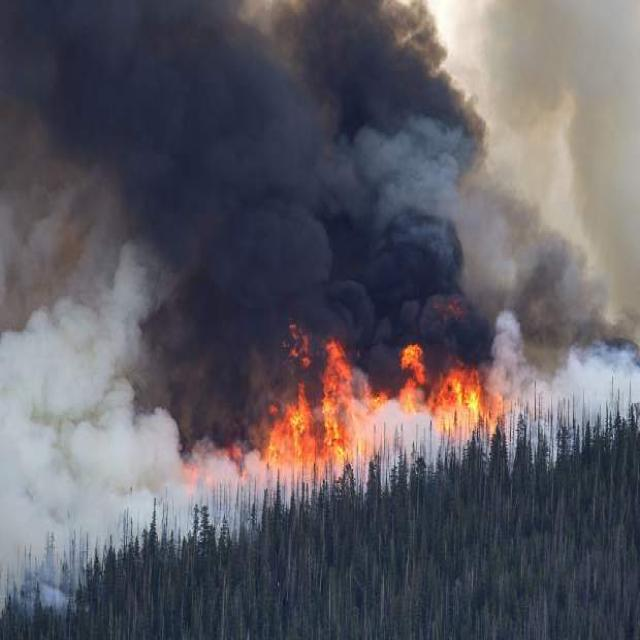Fire: (252, 333, 498, 482)
Smoke: (0, 0, 621, 400), (167, 326, 640, 556), (0, 237, 191, 627)
